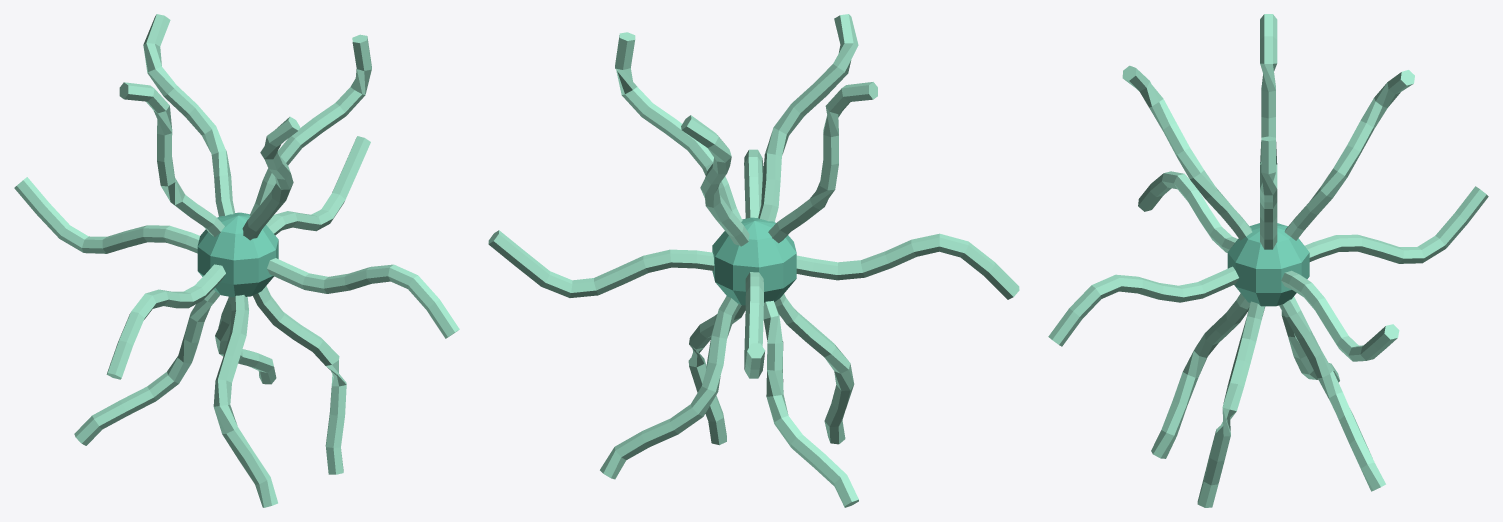
File: flagella.glb
3 views of the same model, side by side, from view 1: azimuth 30°, elevation 25°; view 2: azimuth 150°, elevation 25°; view 3: azimuth 270°, elevation 25° (orthographic). The views are drawn at different scales.
Parts seen in each view (by area): view 1: flagella; view 2: flagella; view 3: flagella.
Part boxes in pixels (x1,y1,x2,y2): flagella: [14, 14, 459, 507]; flagella: [488, 14, 1019, 507]; flagella: [1048, 14, 1488, 507].
Bounding box in the file's own units: 1.18 × 1.2 × 1.18.
